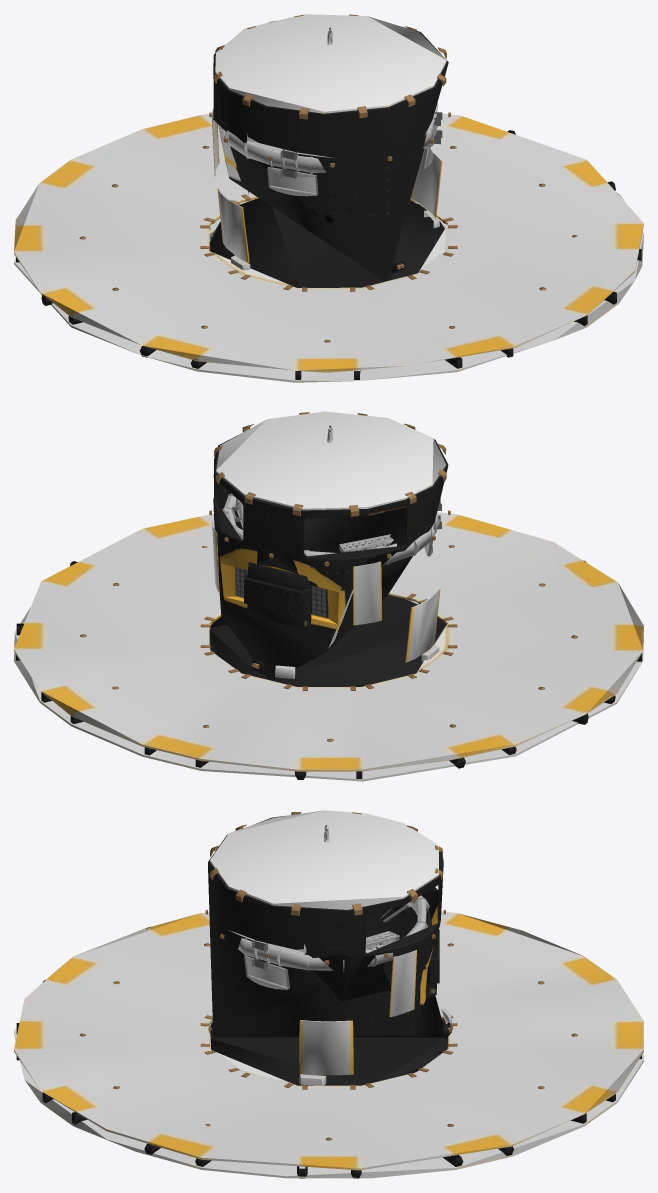
Rendered from gaia-low.glb.
3 views of the same model, one above another, from view 1: azimuth 30°, elevation 25°; view 2: azimuth 150°, elevation 25°; view 3: azimuth 270°, elevation 25° (orthographic).
Visible parts, largest first — view 1: SM_Gaia_low; view 2: SM_Gaia_low; view 3: SM_Gaia_low.
Boxes of the visible parts, x1,y1,x2,y2 form: SM_Gaia_low: [14, 14, 643, 382]; SM_Gaia_low: [14, 411, 643, 781]; SM_Gaia_low: [14, 810, 643, 1178].
Bounding box in the file's own units: 197 × 79.23 × 197.
2 materials, 2 textured.
